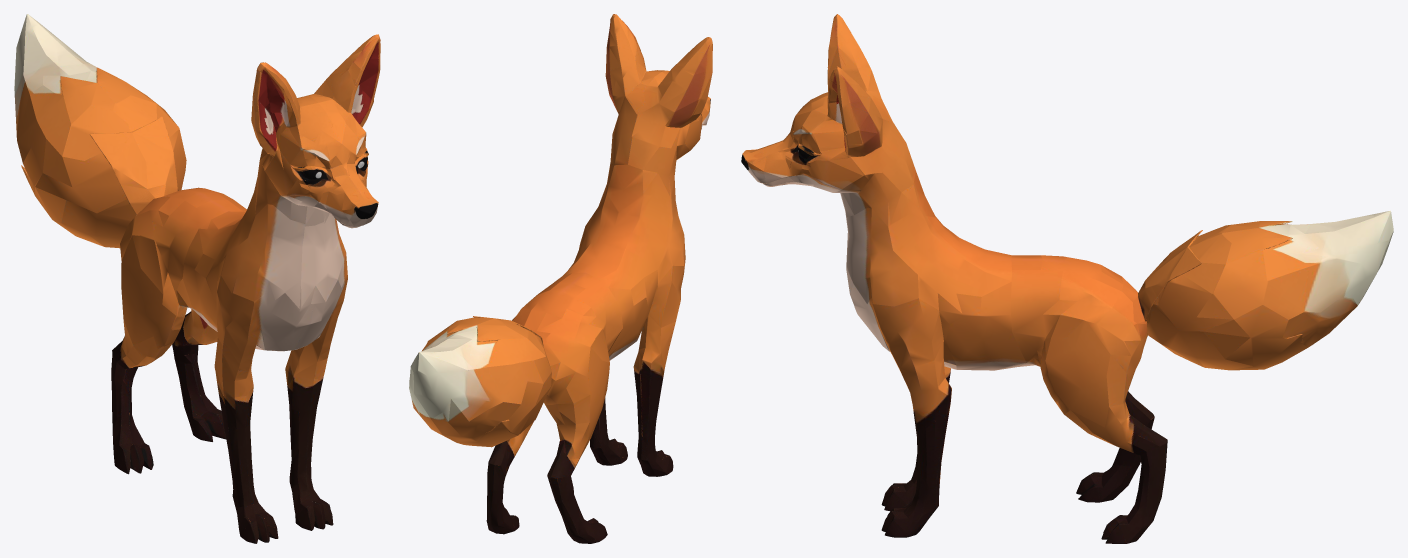
The model's file is skill-problem-solving.glb.
3 views of the same model, side by side, from view 1: azimuth 30°, elevation 25°; view 2: azimuth 150°, elevation 25°; view 3: azimuth 270°, elevation 25° (orthographic). The views are drawn at different scales.
Size of the model in its own units: 0.4254 by 1.54 by 1.9.
1 material, 1 textured.
